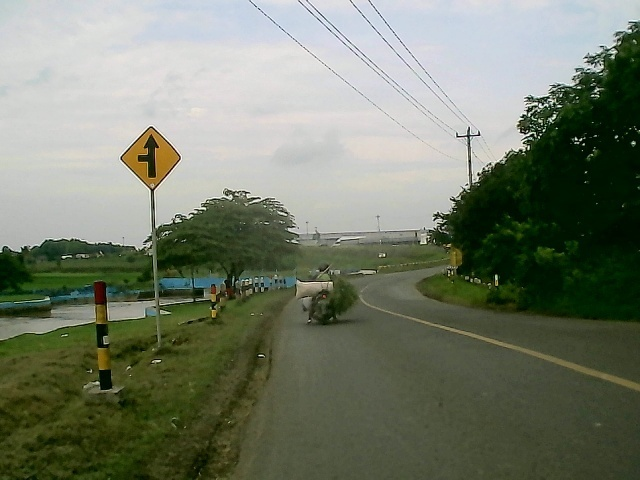Simpang kiri dengan prioritas: (119, 124, 186, 195)
